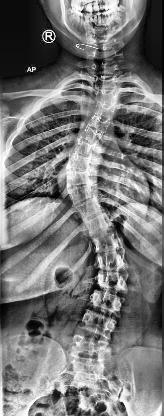Vertebrae: (74, 306, 116, 340), (90, 292, 126, 321), (94, 249, 134, 274), (94, 269, 132, 293), (92, 228, 130, 252), (71, 333, 107, 357), (73, 356, 107, 378), (62, 151, 93, 175), (86, 212, 118, 235), (66, 184, 102, 204), (76, 197, 108, 219), (66, 168, 96, 188), (77, 126, 103, 146), (88, 116, 114, 136), (68, 139, 93, 158), (94, 100, 118, 119), (94, 90, 122, 106)
